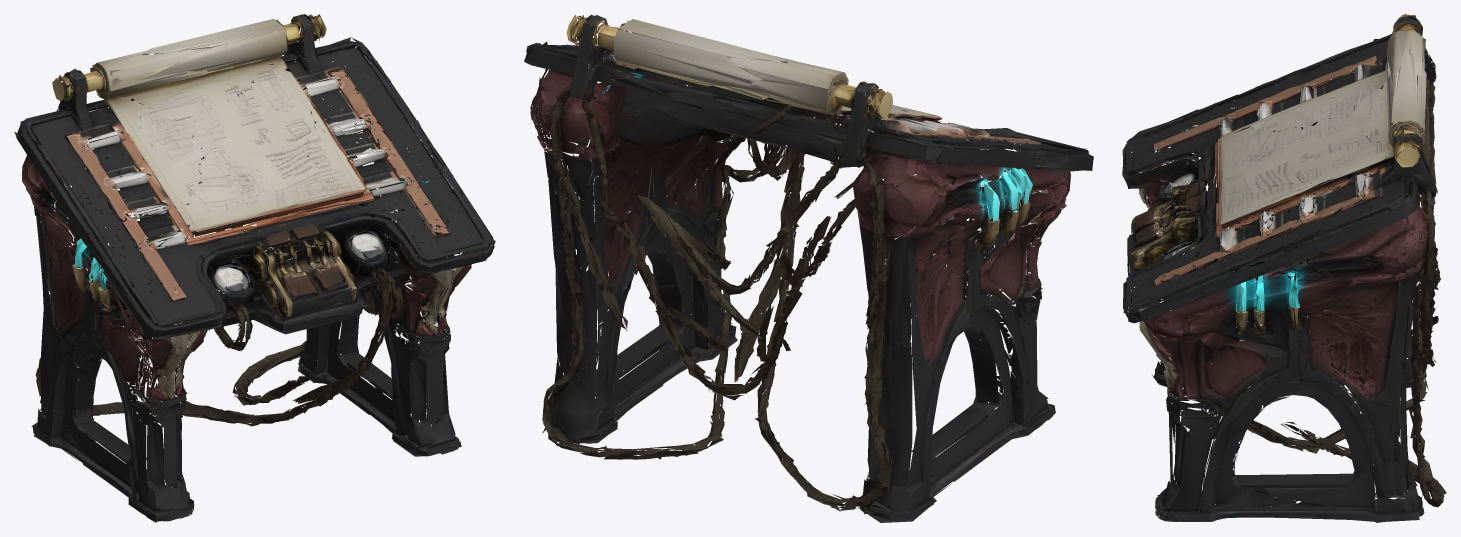
The model's file is quest_kaelen_ledger_desk.glb.
3 renders of one model, left to right at view 1: azimuth 30°, elevation 25°; view 2: azimuth 150°, elevation 25°; view 3: azimuth 270°, elevation 25°, orthographic. The views are drawn at different scales.
Visible parts, largest first — view 1: node_0; view 2: node_0; view 3: node_0.
Boxes of the visible parts, x1,y1,x2,y2 form: node_0: (14, 14, 495, 522); node_0: (524, 14, 1093, 522); node_0: (1122, 14, 1446, 522).
Size of the model in its own units: 0.8355 by 0.8157 by 0.6442.
Materials: 1 (1 with a texture image).
